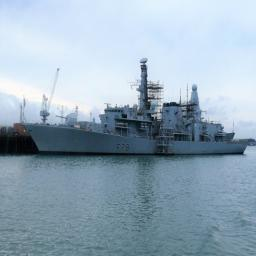Fragata: (23, 56, 248, 157)
